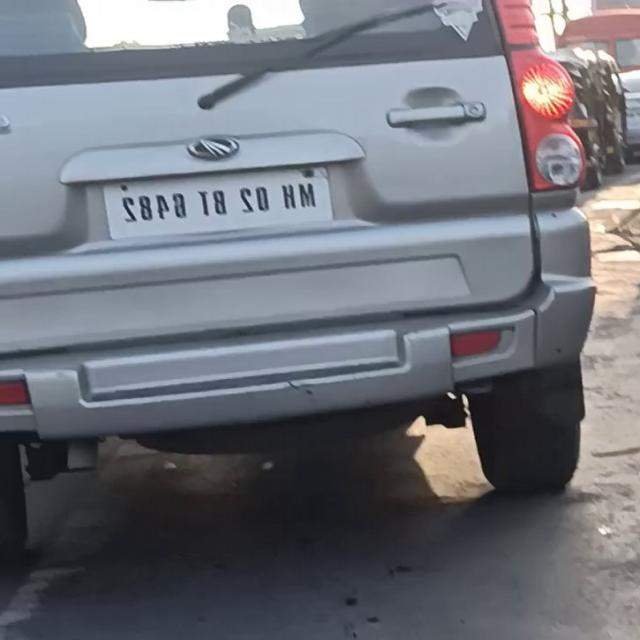license_plate: (98, 154, 342, 250)
